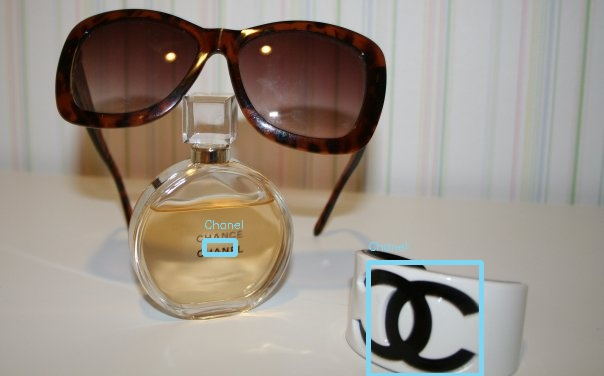Chanel: (355, 265, 483, 376), (188, 242, 251, 257)
